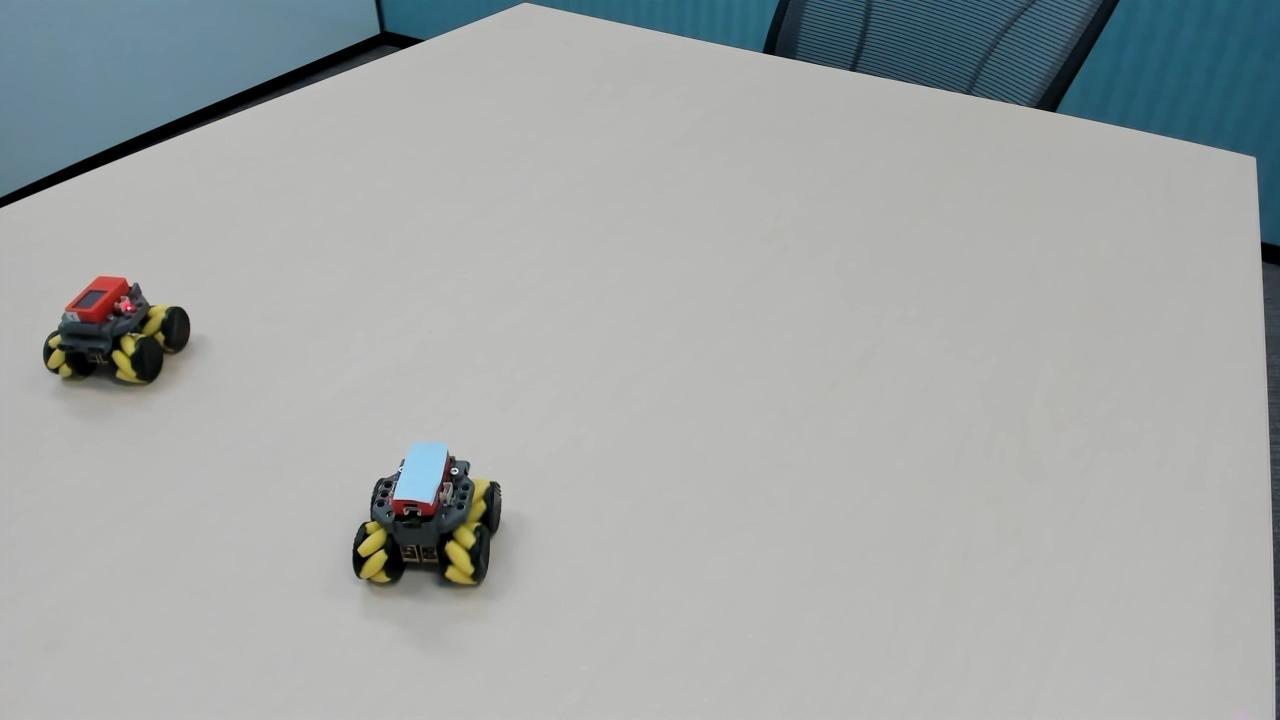B-Robot: (331, 440, 521, 609)
R-Robot: (34, 261, 200, 398)
